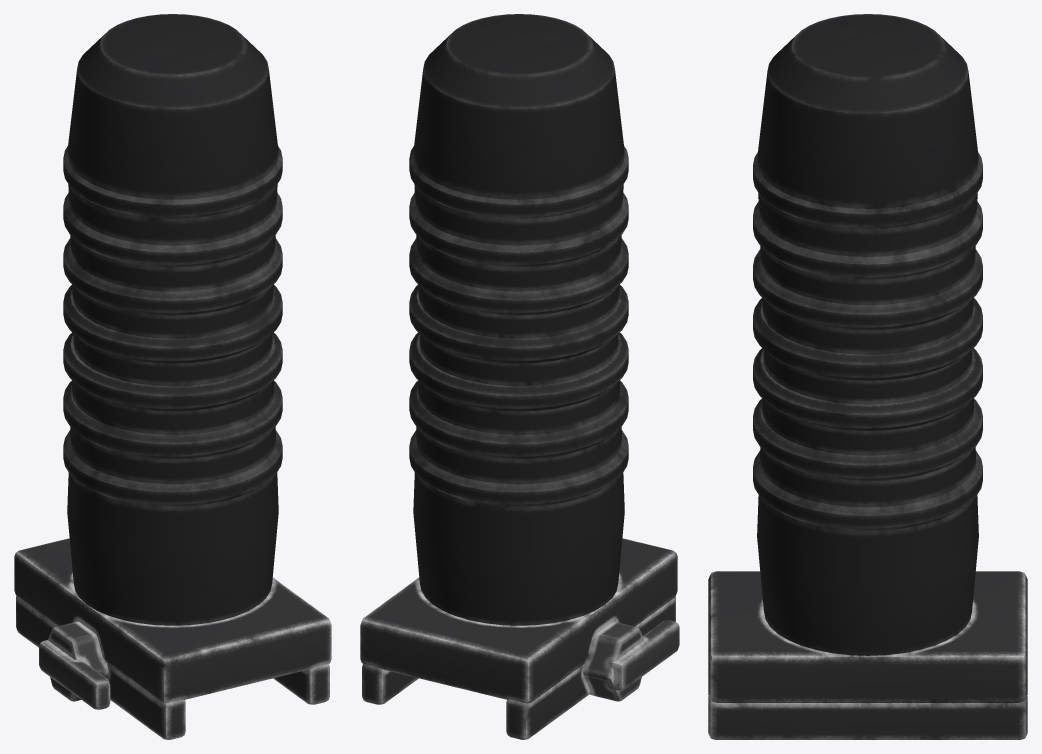
Rendered from vgrip.glb.
3 renders of one model, left to right at view 1: azimuth 30°, elevation 25°; view 2: azimuth 150°, elevation 25°; view 3: azimuth 270°, elevation 25°, orthographic. The views are drawn at different scales.
Visible parts, largest first — view 1: body; view 2: body; view 3: body.
Part boxes in pixels (<box>): body: <box>14,14,331,739</box>; body: <box>360,14,679,739</box>; body: <box>708,14,1027,739</box>.
Bounding box in the file's own units: 0.0376 × 0.1052 × 0.046.
Materials: 1 (1 with a texture image).
